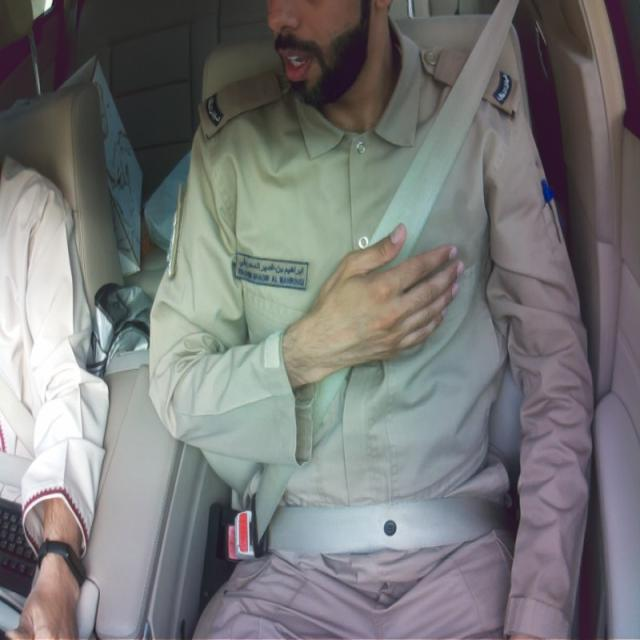seatbelt: (370, 0, 517, 266), (256, 465, 505, 554), (312, 368, 351, 428)
